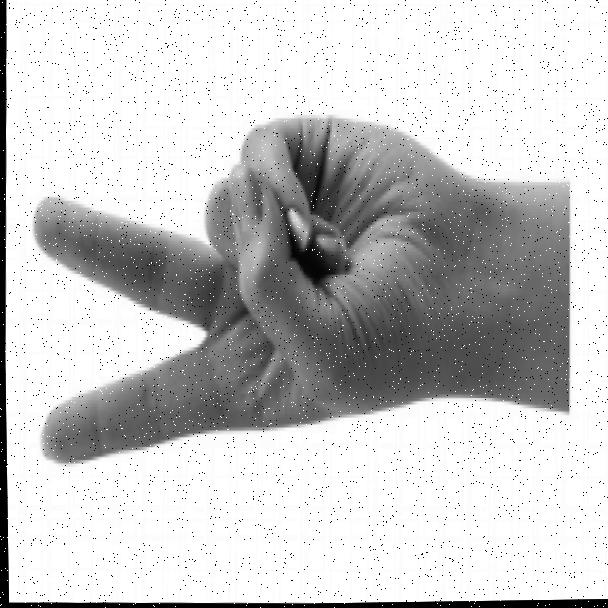two: (22, 112, 543, 483)
